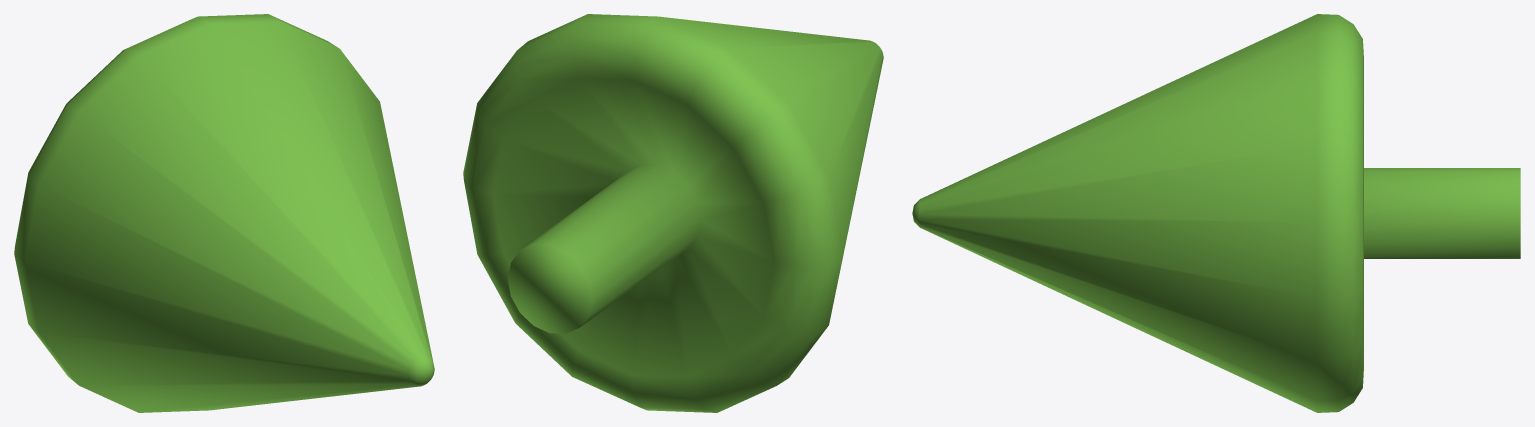
File: starting_tree.glb
3 views of the same model, side by side, from view 1: azimuth 30°, elevation 25°; view 2: azimuth 150°, elevation 25°; view 3: azimuth 270°, elevation 25° (orthographic). The views are drawn at different scales.
Parts seen in each view (by area): view 1: starting_tree; view 2: starting_tree; view 3: starting_tree.
Boxes of the visible parts, x1=… form: starting_tree: x1=14, y1=14, x2=434, y2=412; starting_tree: x1=463, y1=14, x2=883, y2=412; starting_tree: x1=912, y1=14, x2=1520, y2=412.
Bounding box in the file's own units: 1.38 × 1.38 × 2.1.
